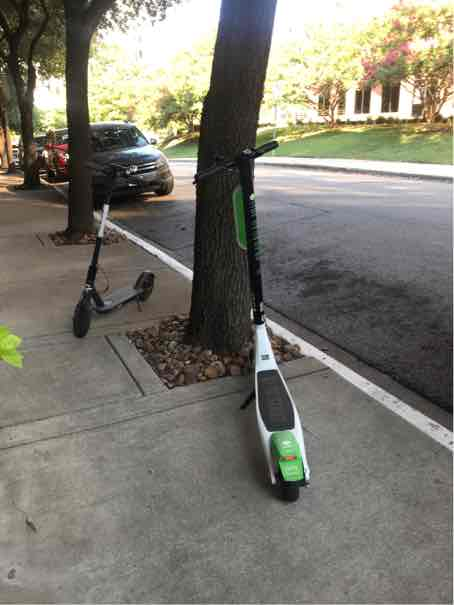scooter: (183, 144, 333, 498)
